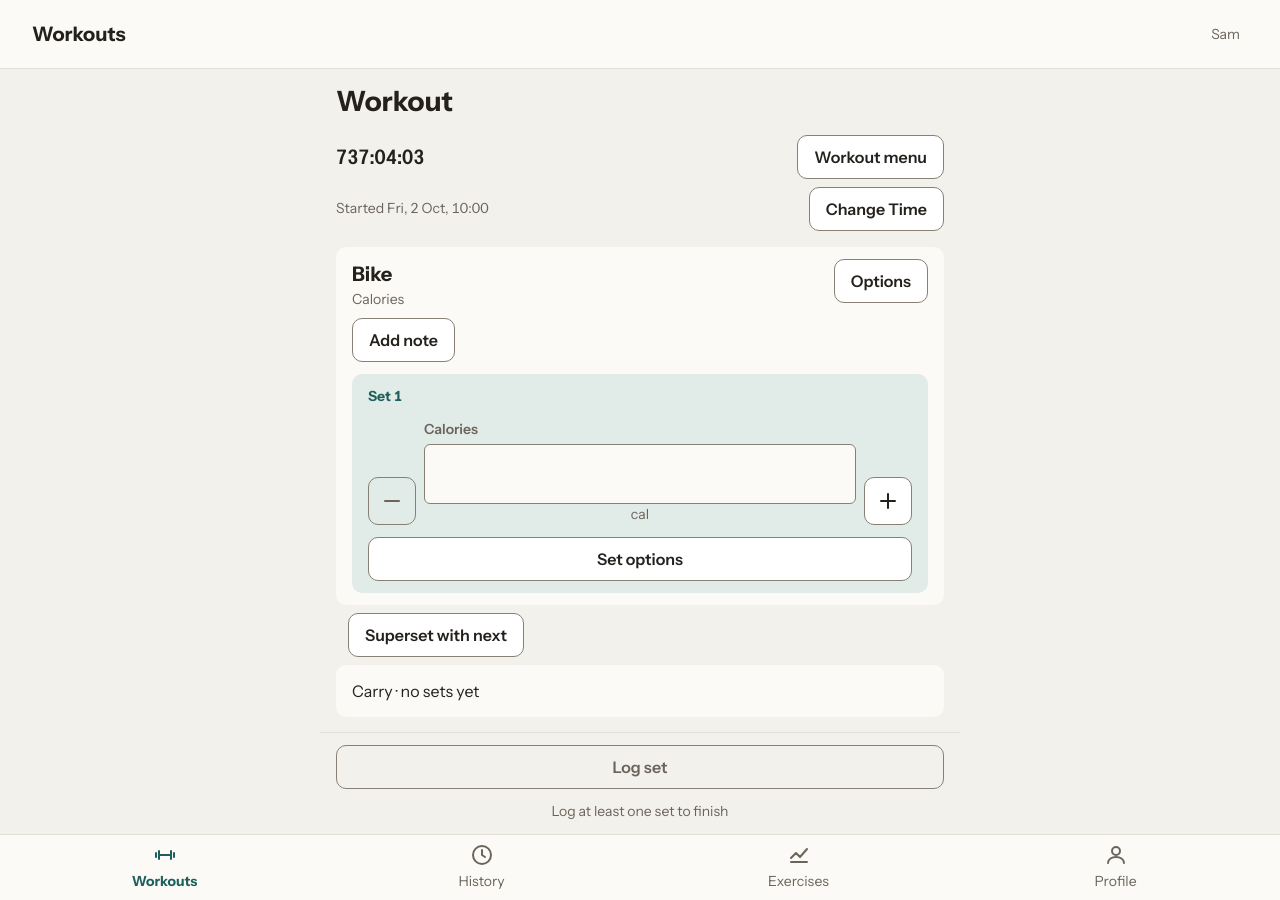
Test: 18.1 AC16 — logging the new types › calories offline: the queued row reads 20 cal and Not saved yet
Expected: the heading "Workout" is shown, 336,84 -> 453,118
Type "20" into the field labelled "Calories".
click(640, 474); type("20")  # box 424,444 -> 856,504
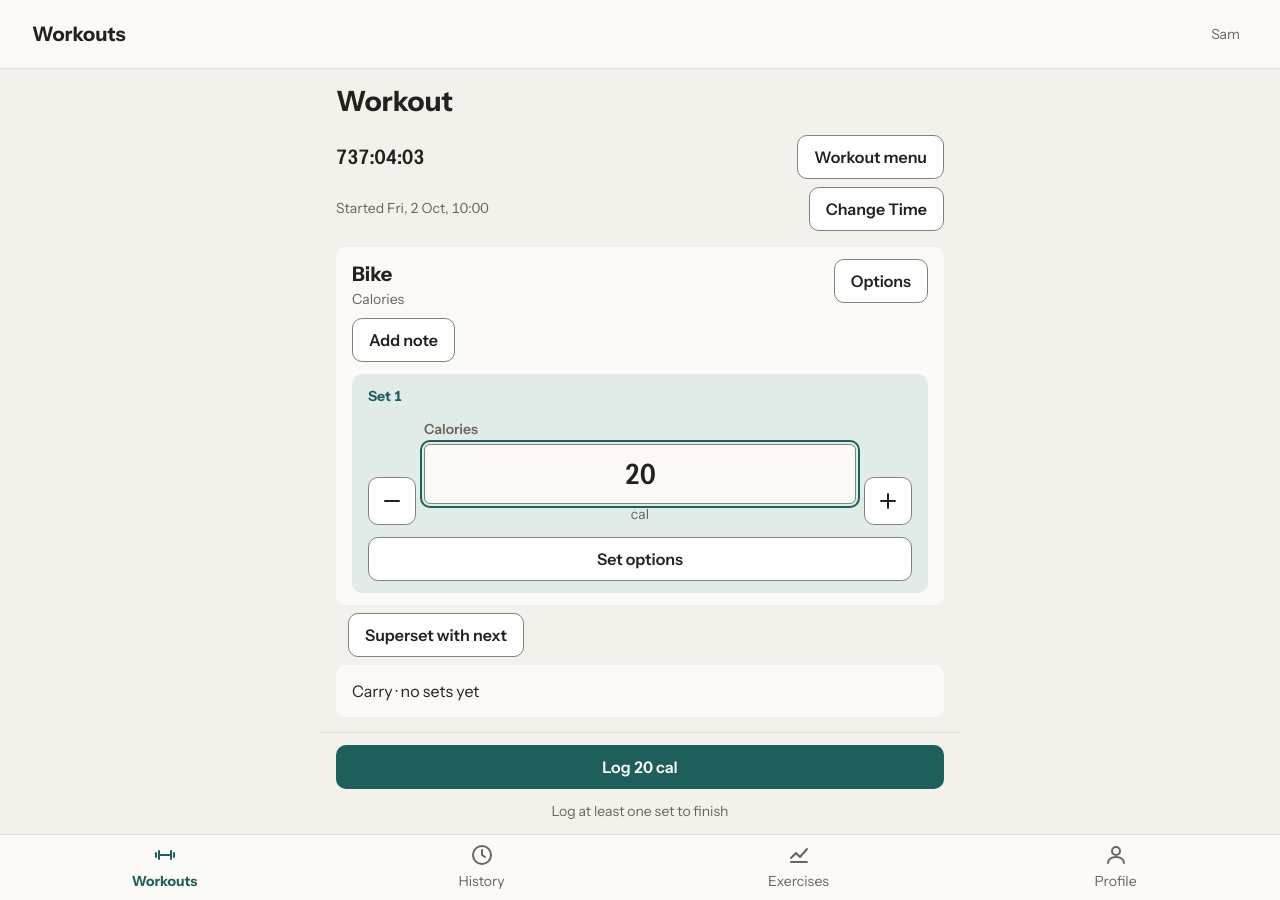
Click the button "Log 20 cal".
click(640, 767)  # box 336,745 -> 944,789
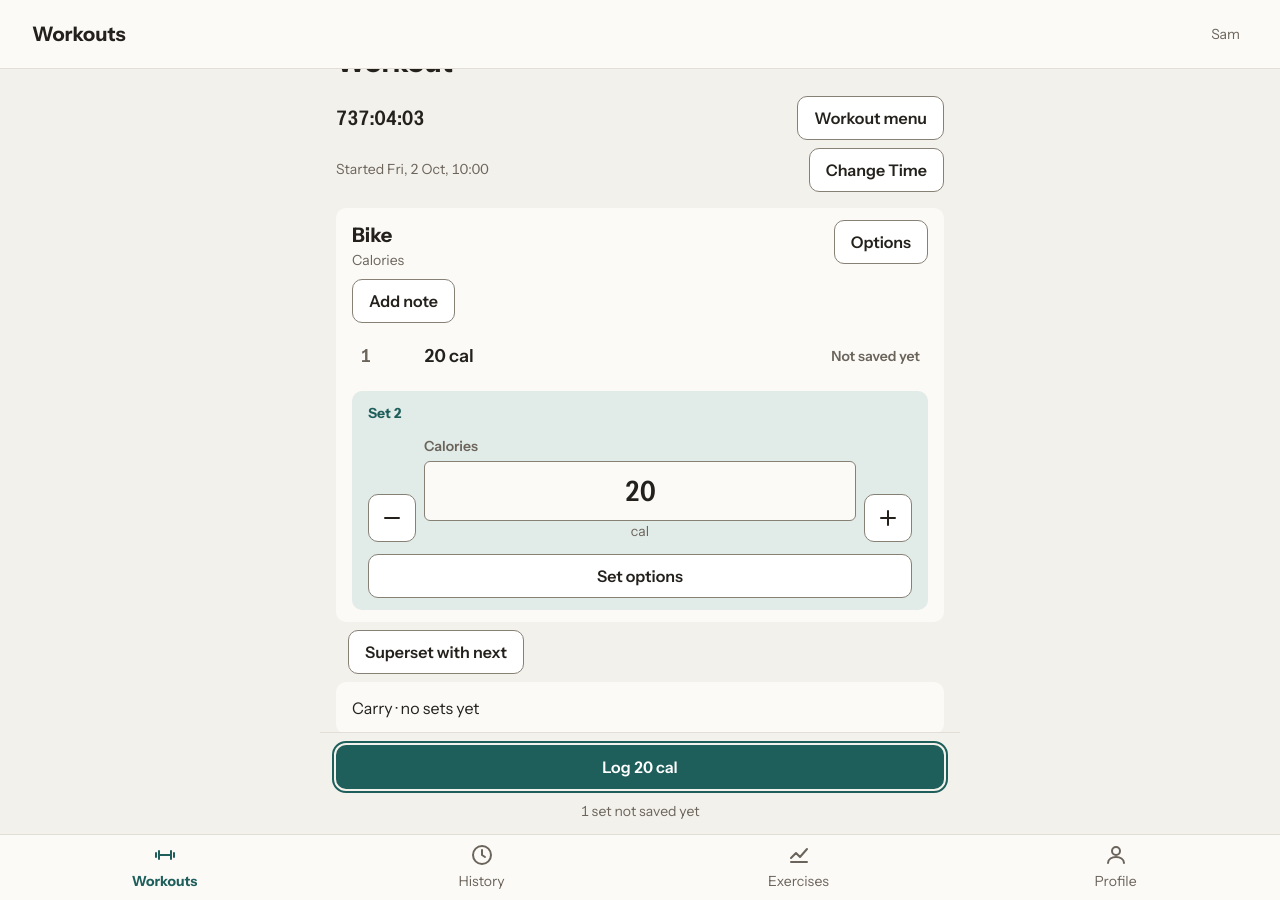
Expected: the button "1 20 cal Not saved yet" is shown, 352,335 -> 928,379
